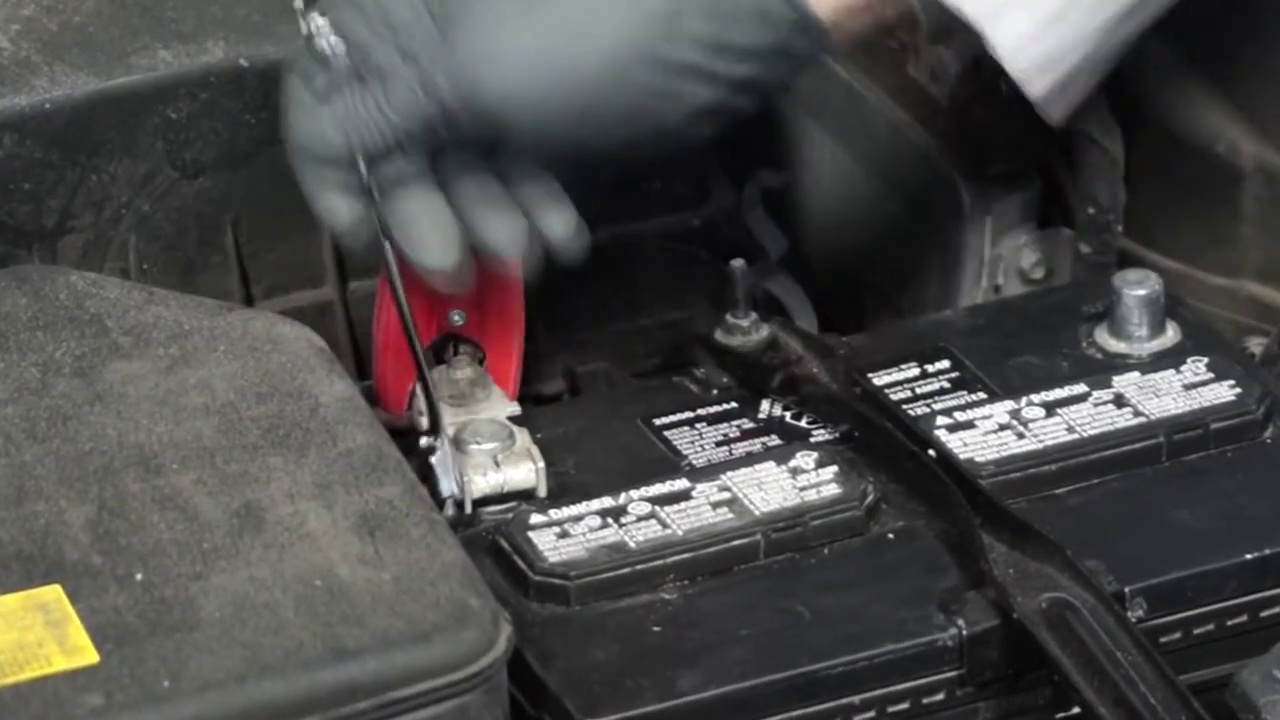battery: (380, 243, 1280, 671)
neg_disconnected: (1063, 231, 1213, 367)
pos_connected: (361, 276, 558, 526)
pos_touched: (290, 68, 604, 503)
